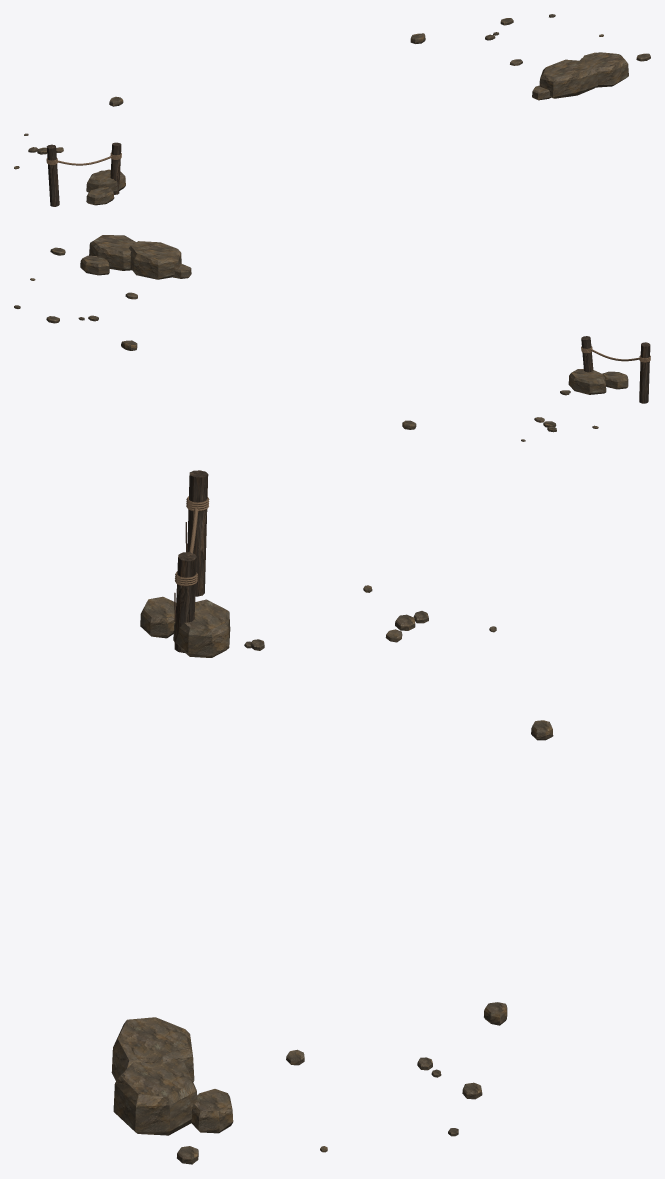
File: street_props.glb
3 views of the same model, one above another, from view 1: azimuth 30°, elevation 25°; view 2: azimuth 150°, elevation 25°; view 3: azimuth 270°, elevation 25° (orthographic). The views are drawn at different scales.
Visible parts, largest first — view 1: 残石 2, 残石 3, 残石 0, 旧栓马桩, 残石 1, 旧栓马桩.001; view 2: 残石 2, 残石 3, 残石 0, 旧栓马桩, 残石 5, 残石 1, 旧栓马桩.001; view 3: 残石 3, 残石 2, 残石 0, 旧栓马桩, 残石 5, 旧栓马桩.001, 残石 1.
Part boxes in pixels (bbox=[...]): 残石 2: bbox=[539, 59, 597, 98]; 残石 3: bbox=[580, 52, 628, 87]; 残石 0: bbox=[86, 169, 125, 192]; 旧栓马桩: bbox=[46, 144, 59, 206]; 残石 1: bbox=[86, 187, 114, 205]; 旧栓马桩.001: bbox=[110, 142, 121, 194]; 残石 2: bbox=[129, 241, 181, 279]; 残石 3: bbox=[89, 235, 135, 270]; 残石 0: bbox=[568, 369, 606, 394]; 旧栓马桩: bbox=[639, 342, 650, 403]; 残石 5: bbox=[80, 255, 109, 275]; 残石 1: bbox=[602, 371, 628, 389]; 旧栓马桩.001: bbox=[581, 336, 593, 372]; 残石 3: bbox=[113, 1058, 197, 1135]; 残石 2: bbox=[111, 1017, 194, 1081]; 残石 0: bbox=[173, 599, 230, 657]; 旧栓马桩: bbox=[187, 470, 208, 596]; 残石 5: bbox=[190, 1089, 233, 1133]; 旧栓马桩.001: bbox=[174, 552, 196, 652]; 残石 1: bbox=[140, 596, 176, 638].
Bounding box in the file's own units: 12.2 × 1.14 × 3.88.
Materials: 7 (5 with a texture image).
